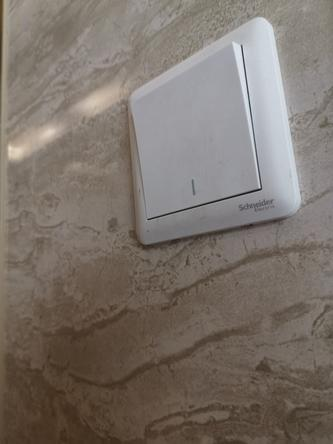switch: (124, 34, 268, 220)
